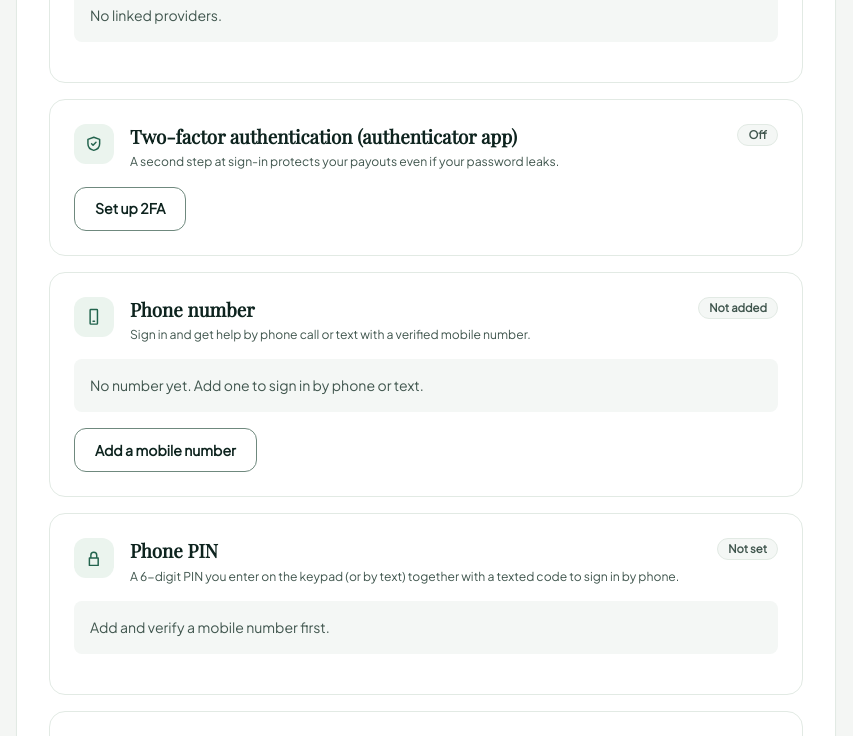
Test: Settings → Security: phone number card › adds a number with the current password and a texted code
(page scrolled)
Check: the heading "Phone number" is shown, box [130,297,255,322]
Click the button "Add a mobile number".
click(165, 450)  # box [74,428,257,472]
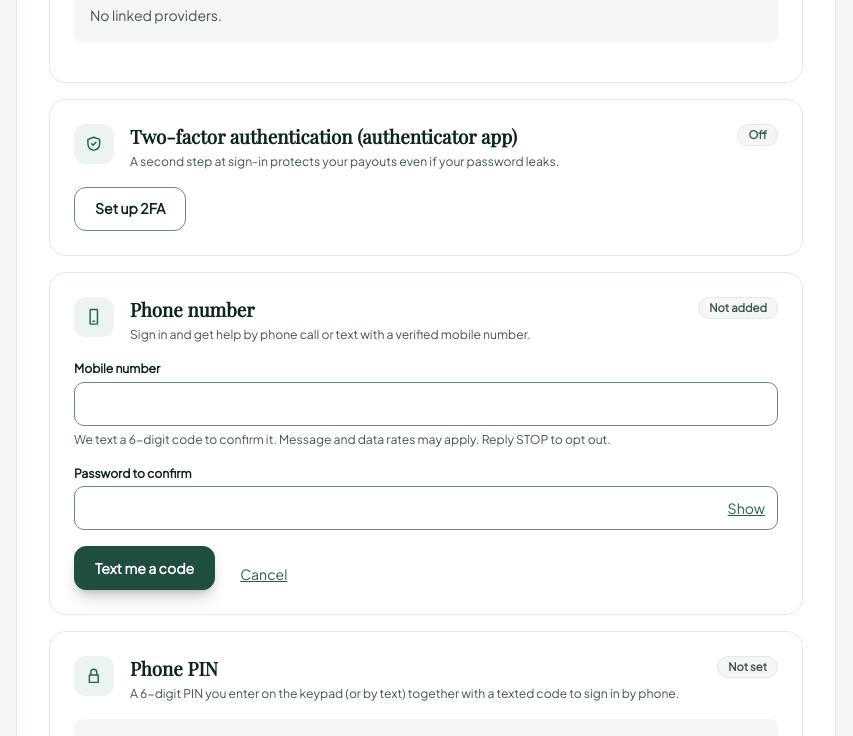
Type "(415) 555-0123" into the field labelled "Mobile number".
click(426, 404); type("(415) 555-0123")  # box [74,382,778,426]
Type "Tr1cky-Horse-Battery!" into the password field labelled "Password to confirm".
click(426, 508); type("Tr1cky-Horse-Battery!")  # box [74,486,778,530]
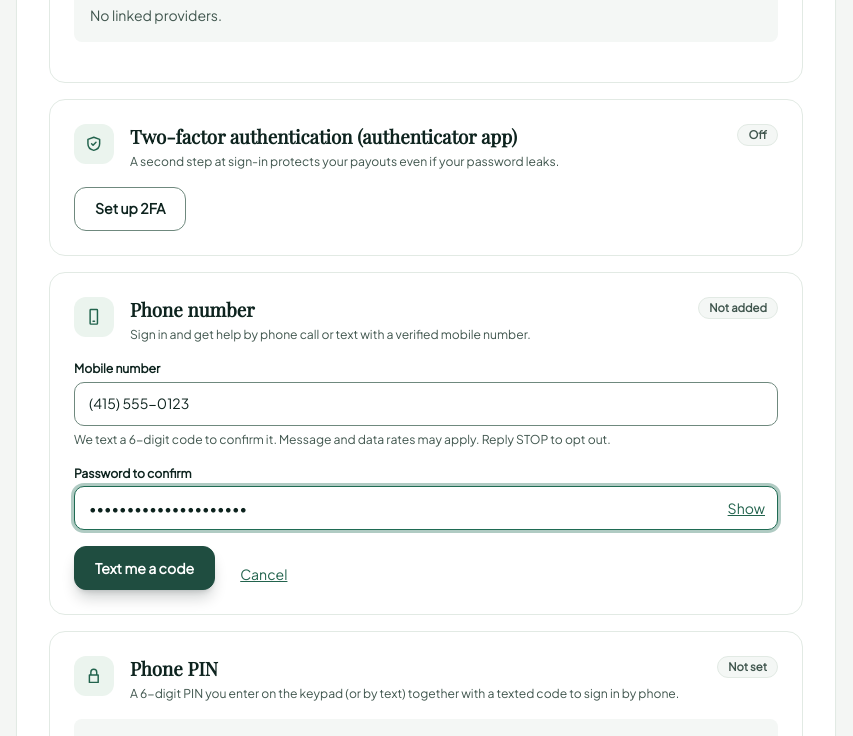
Click the button "Text me a code".
click(145, 568)  # box [74,546,215,590]
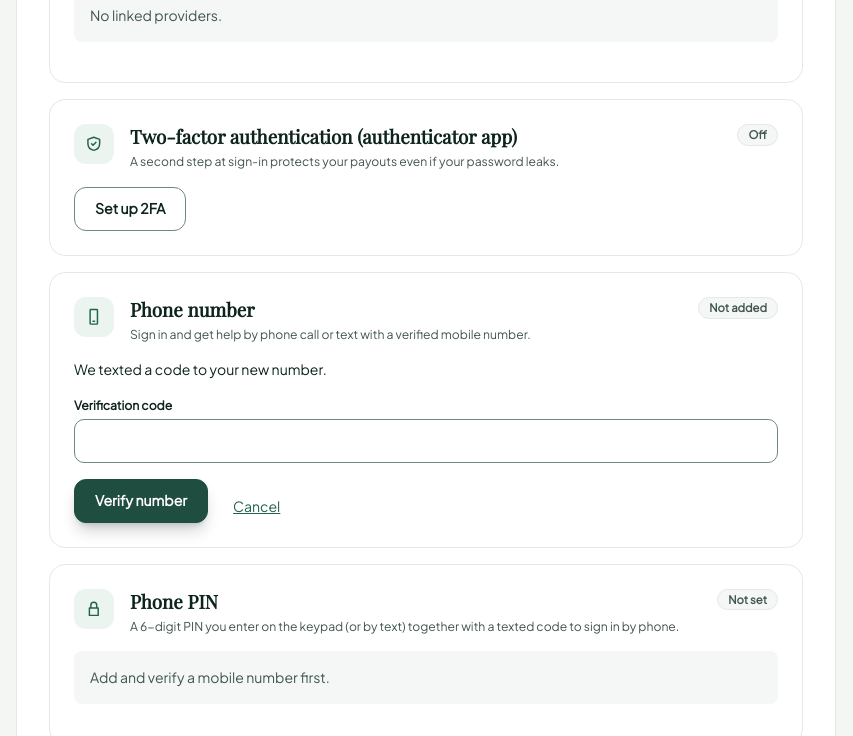
Type "000000" into the field labelled "Verification code".
click(426, 441); type("000000")  # box [74,419,778,463]
Click the button "Verify number".
click(141, 501)  # box [74,479,208,523]
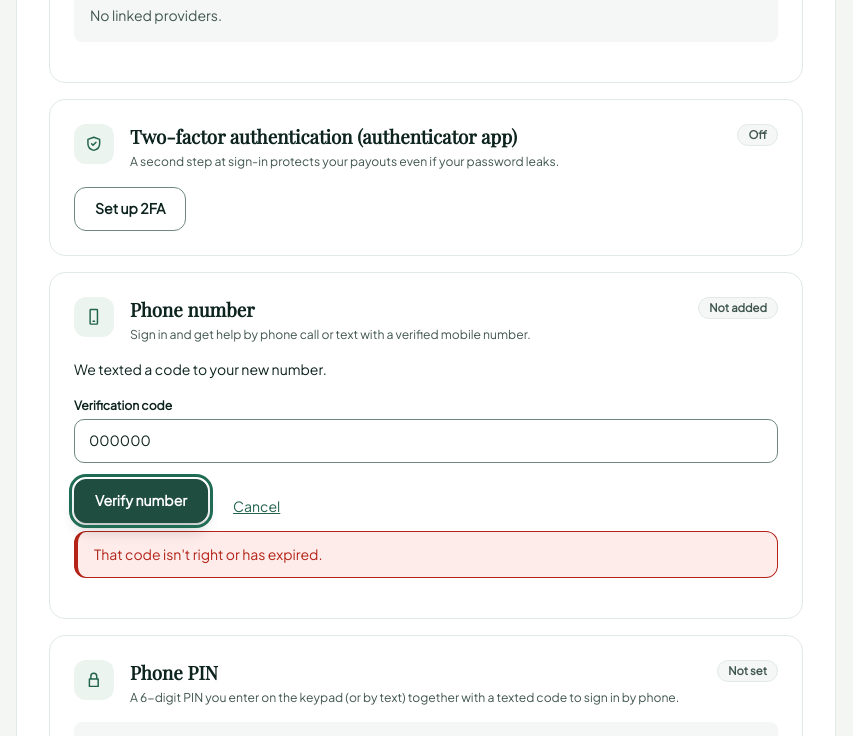
Check: the text "That code isn't right or has expired." is shown, box [74,531,778,578]
Replace the text in the field labelled "Verification code" with "123456" at (426, 441), box [74,419,778,463]
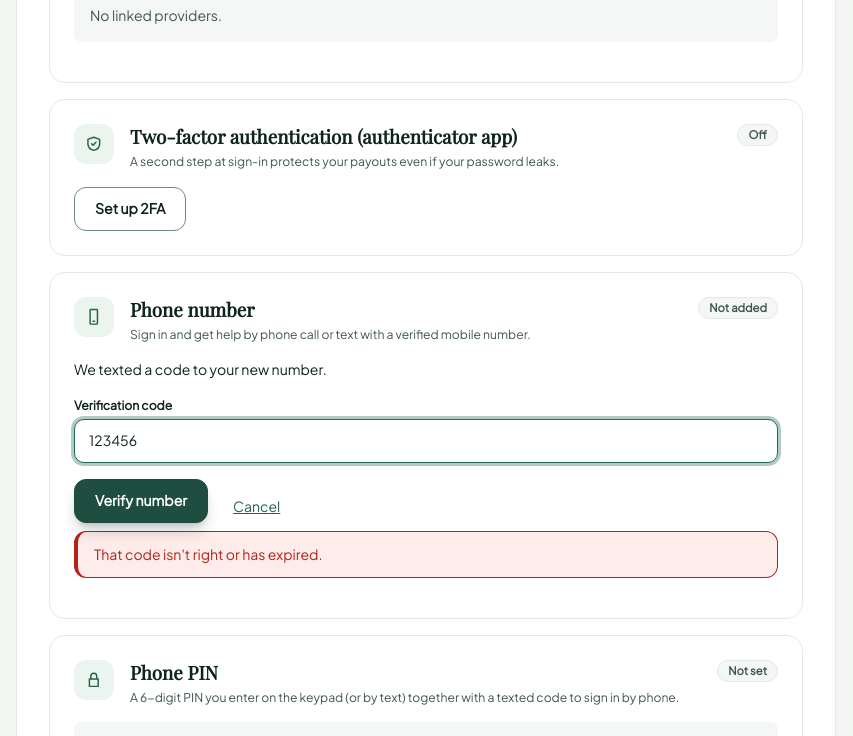
Click the button "Verify number".
click(141, 501)  # box [74,479,208,523]
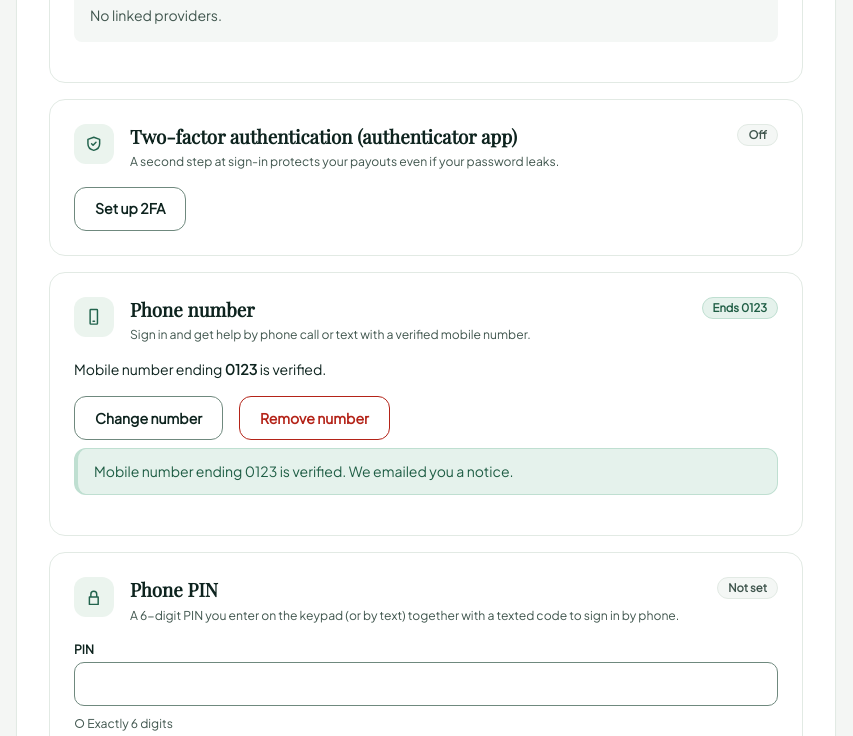
Check: the text "Mobile number ending 0123 is verified. We emailed you a notice." is shown, box [74,448,778,496]
Check: the text "Ends 0123" is shown, box [702,297,778,319]
